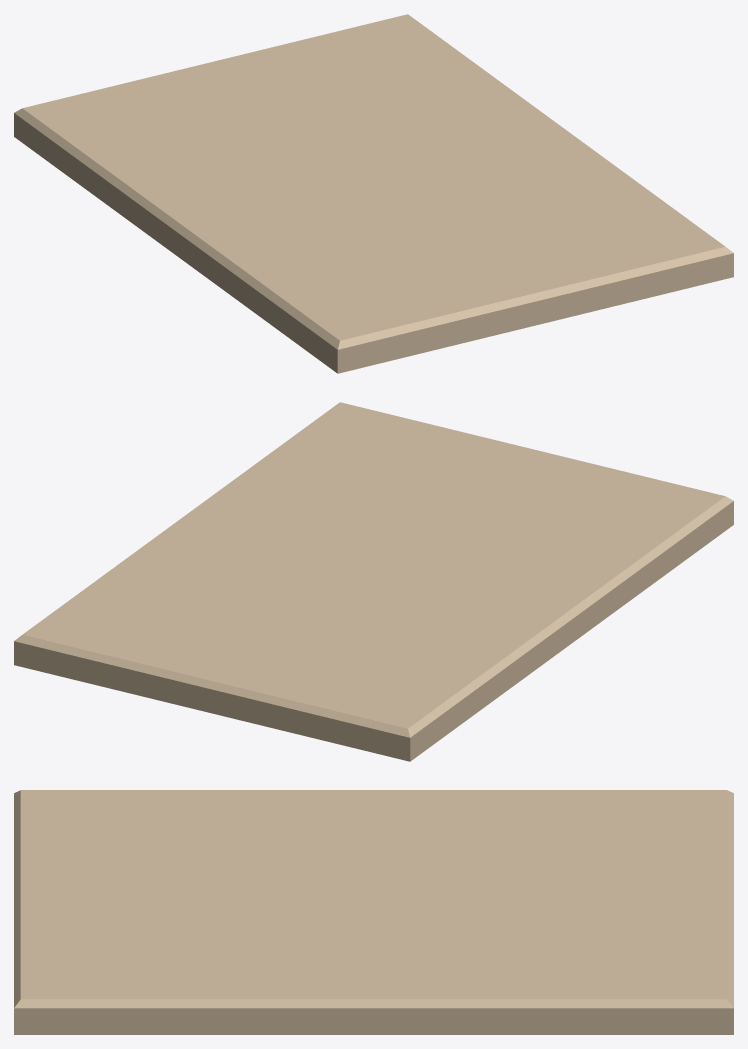
Rendered from PushPanel.fbx.
3 renders of one model, top to bottom at view 1: azimuth 30°, elevation 25°; view 2: azimuth 150°, elevation 25°; view 3: azimuth 270°, elevation 25°, orthographic. The views are drawn at different scales.
Parts seen in each view (by area): view 1: PushPanel; view 2: PushPanel; view 3: PushPanel.
Boxes of the visible parts, x1,y1,x2,y2 form: PushPanel: (14,14,733,373); PushPanel: (14,402,733,761); PushPanel: (14,790,733,1034).
Size of the model in its own units: 47.86 by 3.41 by 67.75.
